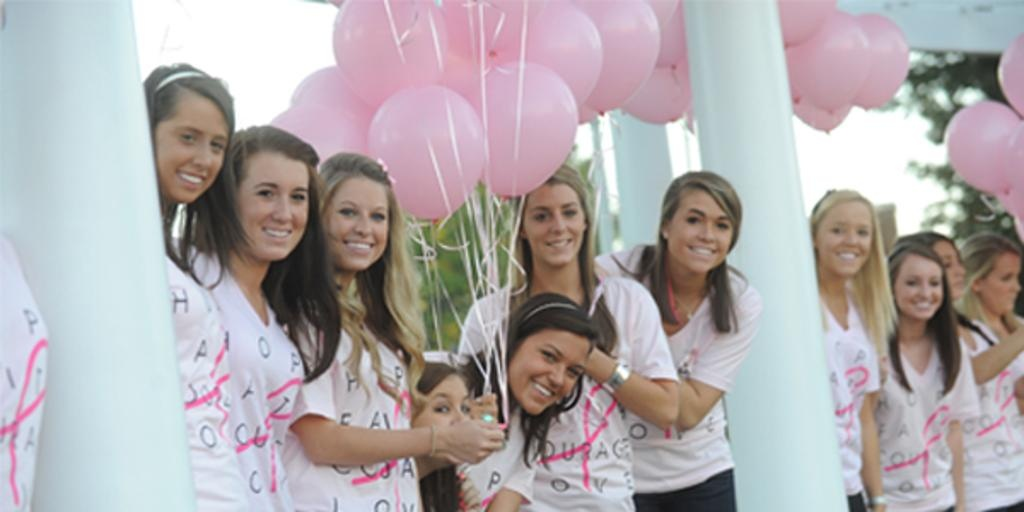human_face: (236, 160, 308, 258), (150, 110, 226, 202), (505, 337, 587, 415), (324, 182, 388, 270), (522, 190, 586, 262), (668, 200, 732, 270), (415, 382, 471, 462), (818, 210, 872, 274), (894, 260, 942, 318), (982, 258, 1018, 314), (930, 245, 964, 299)
